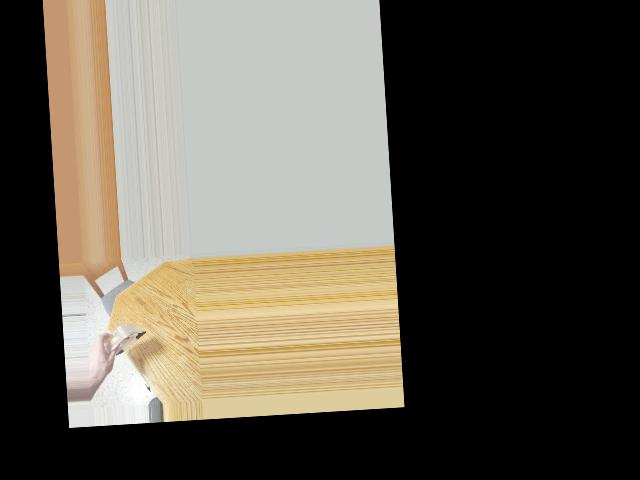cheese: (97, 317, 144, 372)
